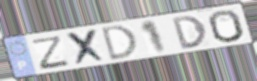1: (139, 18, 169, 55)
D: (101, 24, 140, 63), (170, 14, 209, 51)
O: (207, 9, 247, 44)
X: (65, 27, 109, 68)
Z: (32, 34, 71, 71)
